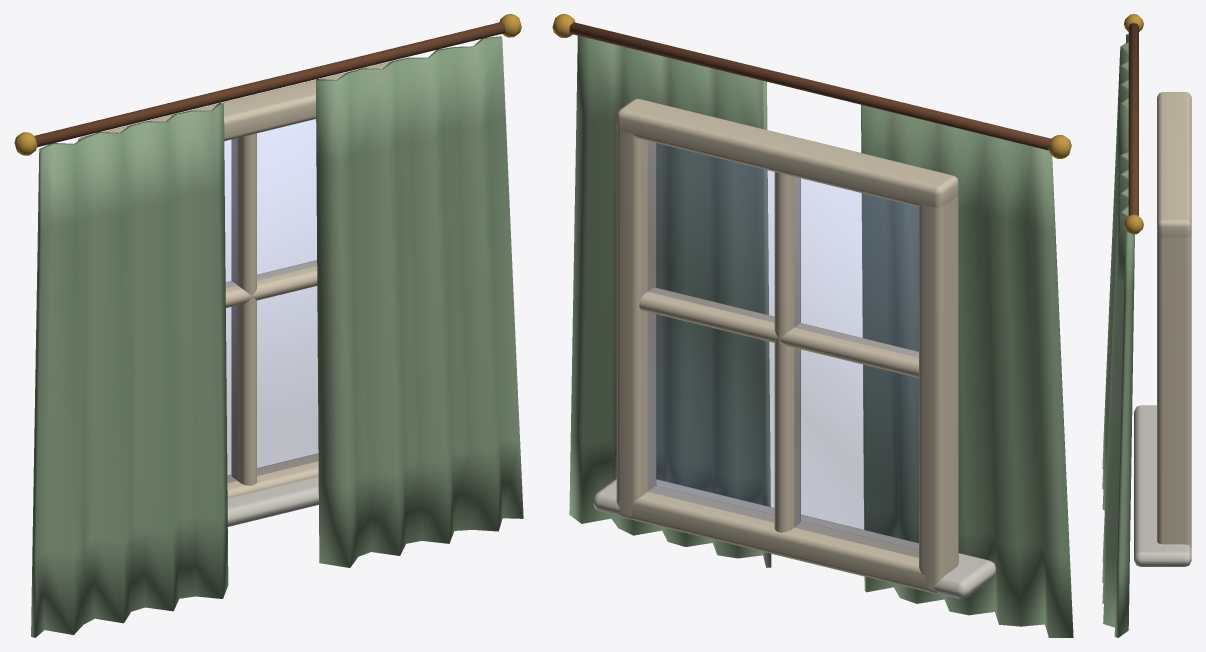
File: window.glb
The picture shows the model from 3 angles, left to right: view 1: azimuth 30°, elevation 25°; view 2: azimuth 150°, elevation 25°; view 3: azimuth 270°, elevation 25°; orthographic projection. The views are drawn at different scales.
Parts seen in each view (by area): view 1: curtain_L, curtain_R, window, glass; view 2: glass, window, curtain_R, curtain_L; view 3: window, curtain_L, curtain_R.
Part boxes in pixels (x1=…): curtain_L: x1=316, y1=36, x2=523, y2=567; curtain_R: x1=31, y1=103, x2=228, y2=637; window: x1=14, y1=14, x2=521, y2=526; glass: x1=224, y1=119, x2=318, y2=482; glass: x1=648, y1=141, x2=918, y2=557; window: x1=552, y1=14, x2=1071, y2=598; curtain_R: x1=861, y1=104, x2=1073, y2=637; curtain_L: x1=569, y1=35, x2=771, y2=567; window: x1=1124, y1=14, x2=1191, y2=566; curtain_L: x1=1102, y1=150, x2=1134, y2=637; curtain_R: x1=1102, y1=34, x2=1128, y2=510.
Bounding box in the file's own units: 1.71 × 1.61 × 0.3095.
